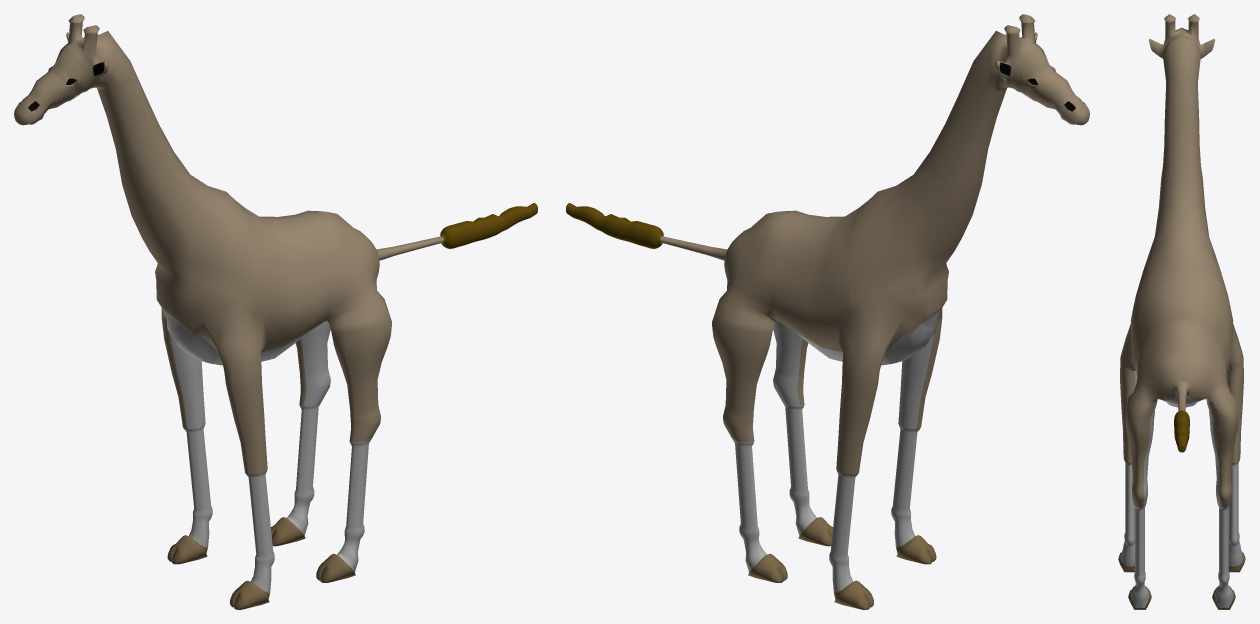
File: Cartoon Animal.fbx
3 views of the same model, side by side, from view 1: azimuth 30°, elevation 25°; view 2: azimuth 150°, elevation 25°; view 3: azimuth 270°, elevation 25° (orthographic). The views are drawn at different scales.
Visible parts, largest first — view 1: pPlane5; view 2: pPlane5; view 3: pPlane5.
Boxes of the visible parts, left/top/right/bottom form: pPlane5: left=14, top=14, right=537, bottom=609; pPlane5: left=566, top=14, right=1089, bottom=609; pPlane5: left=1118, top=14, right=1245, bottom=609.
Size of the model in its own units: 17.6 by 19.18 by 4.46.
